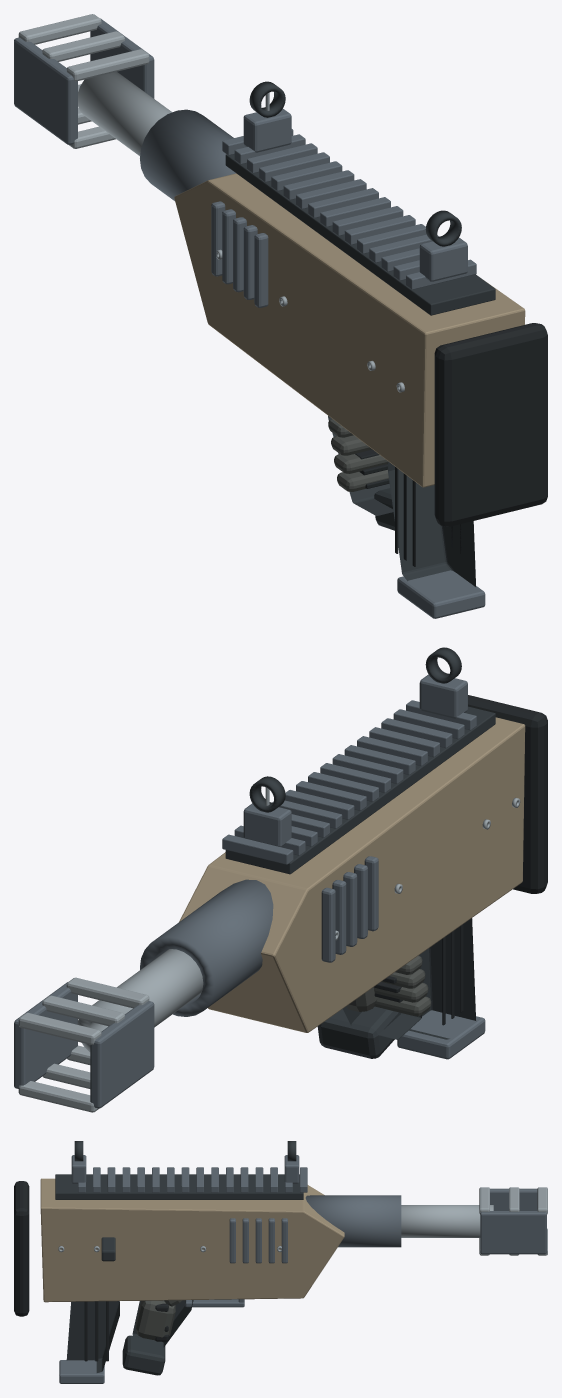
File: autocannon.glb
The picture shows the model from 3 angles, top to bottom: view 1: azimuth 30°, elevation 25°; view 2: azimuth 150°, elevation 25°; view 3: azimuth 270°, elevation 25°; orthographic projection. The views are drawn at different scales.
Parts seen in each view (by area): view 1: Parts_Cerakote sand, Parts_Parkerized steel, Parts_Rubber, Parts_Machined steel, Magazine, Parts_Graphite polymer, Parts_Charcoal glove; view 2: Parts_Cerakote sand, Parts_Parkerized steel, Parts_Machined steel, Parts_Graphite polymer, Magazine, Parts_Rubber, Parts_Charcoal glove; view 3: Parts_Cerakote sand, Parts_Parkerized steel, Parts_Graphite polymer, Magazine, Parts_Machined steel, Parts_Rubber, Parts_Charcoal glove.
Part boxes in pixels (x1,y1,x2,y2): Parts_Cerakote sand: (174, 173, 525, 487); Parts_Parkerized steel: (14, 18, 476, 307); Parts_Rubber: (355, 323, 547, 526); Parts_Machined steel: (18, 14, 404, 392); Magazine: (388, 461, 485, 618); Parts_Graphite polymer: (225, 81, 495, 530); Parts_Charcoal glove: (328, 418, 388, 491); Parts_Cerakote sand: (179, 717, 525, 1032); Parts_Parkerized steel: (14, 674, 476, 1108); Parts_Machined steel: (18, 787, 520, 1112); Parts_Graphite polymer: (225, 647, 495, 1058); Magazine: (397, 918, 485, 1059); Parts_Rubber: (373, 695, 547, 1002); Parts_Charcoal glove: (346, 955, 431, 1016); Parts_Cerakote sand: (40, 1178, 344, 1302); Parts_Parkerized steel: (71, 1155, 546, 1307); Parts_Graphite polymer: (55, 1141, 303, 1375); Magazine: (59, 1301, 119, 1383); Parts_Machined steel: (58, 1187, 547, 1255); Parts_Rubber: (14, 1181, 168, 1341); Parts_Charcoal glove: (136, 1300, 181, 1340).
Bounding box in the file's own units: 0.1865 × 0.438 × 0.903.
